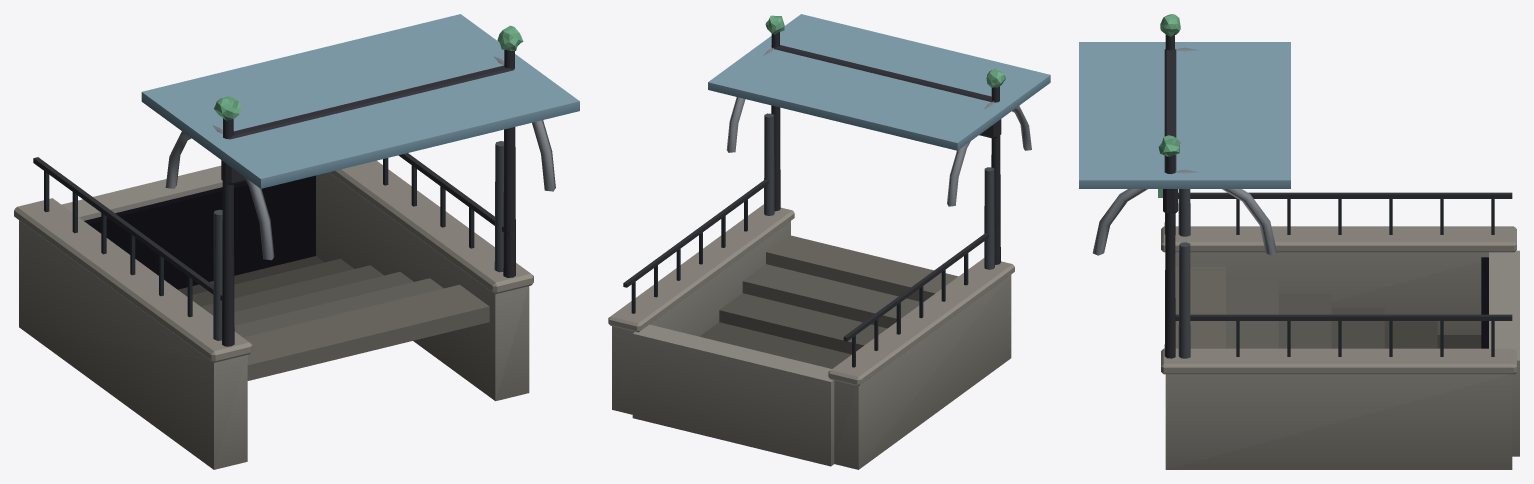
File: metro-headhouse.glb
3 views of the same model, side by side, from view 1: azimuth 30°, elevation 25°; view 2: azimuth 150°, elevation 25°; view 3: azimuth 270°, elevation 25° (orthographic). The views are drawn at different scales.
Visible parts, largest first — view 1: metro_headhouse_01; view 2: metro_headhouse_01; view 3: metro_headhouse_01.
Part boxes in pixels (box(x1,y1,x2,y2)): metro_headhouse_01: box(14, 14, 579, 469); metro_headhouse_01: box(608, 14, 1050, 469); metro_headhouse_01: box(1079, 14, 1519, 469).
Size of the model in its own units: 3.44 by 3.73 by 4.58.
